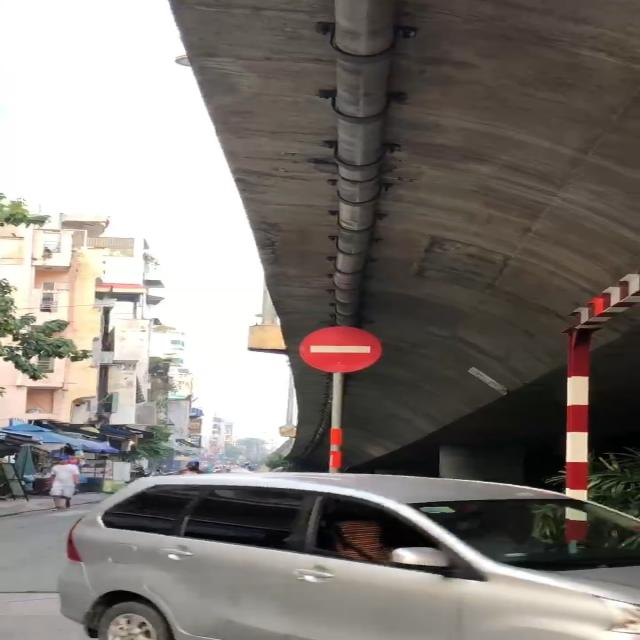Bien bao cam di nguoc chieu: (293, 324, 386, 374)
